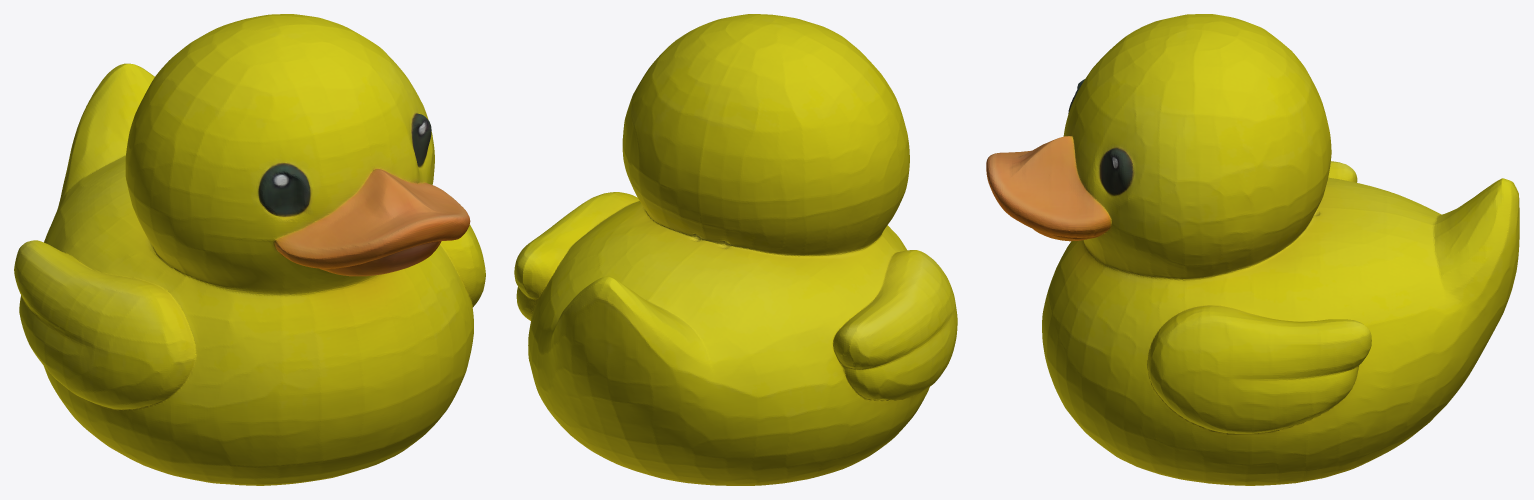
3 views of the same model, side by side, from view 1: azimuth 30°, elevation 25°; view 2: azimuth 150°, elevation 25°; view 3: azimuth 270°, elevation 25° (orthographic). The views are drawn at different scales.
Visible parts, largest first — view 1: geometry_0; view 2: geometry_0; view 3: geometry_0.
Boxes of the visible parts, box(x1,y1,x2,y2) form: geometry_0: box(14, 14, 485, 485); geometry_0: box(514, 14, 957, 485); geometry_0: box(986, 14, 1519, 485).
Bounding box in the file's own units: 0.8552 × 0.8308 × 0.999.
